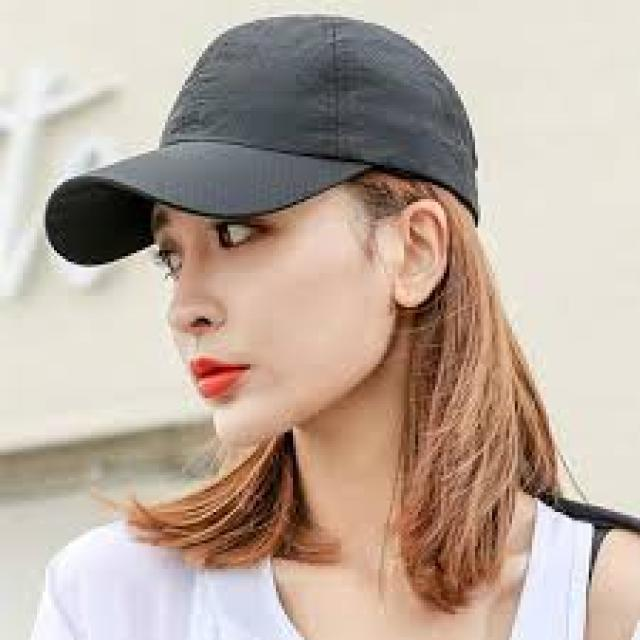cap: (22, 6, 510, 288)
